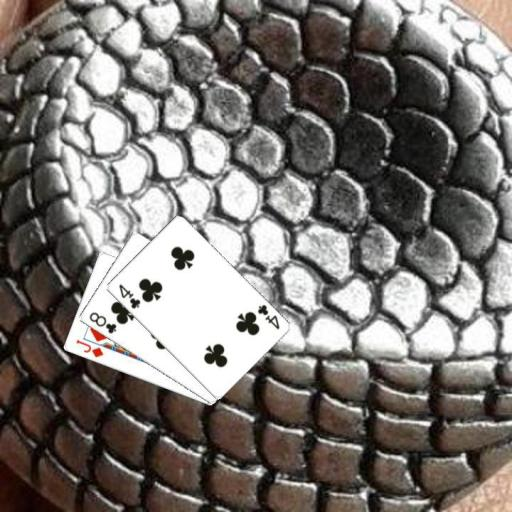4C: (254, 302, 281, 332), (115, 281, 142, 310)
8C: (86, 309, 118, 335)
JD: (73, 336, 105, 359)
